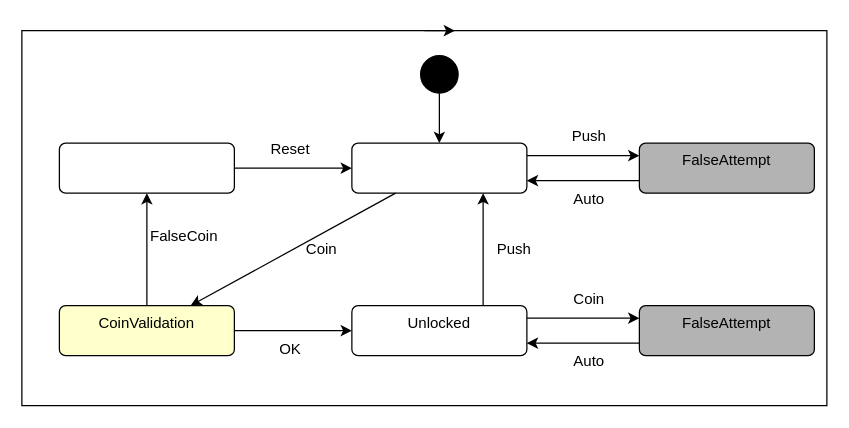
The diagram is 849 pixels wide and 428 high, and some of its shapes have lost their labels. The centre of each missing label's shape, as x and y in pixels:
"ErrorProcessing" goes at point 146,167.
"Locked" goes at point 439,167.
